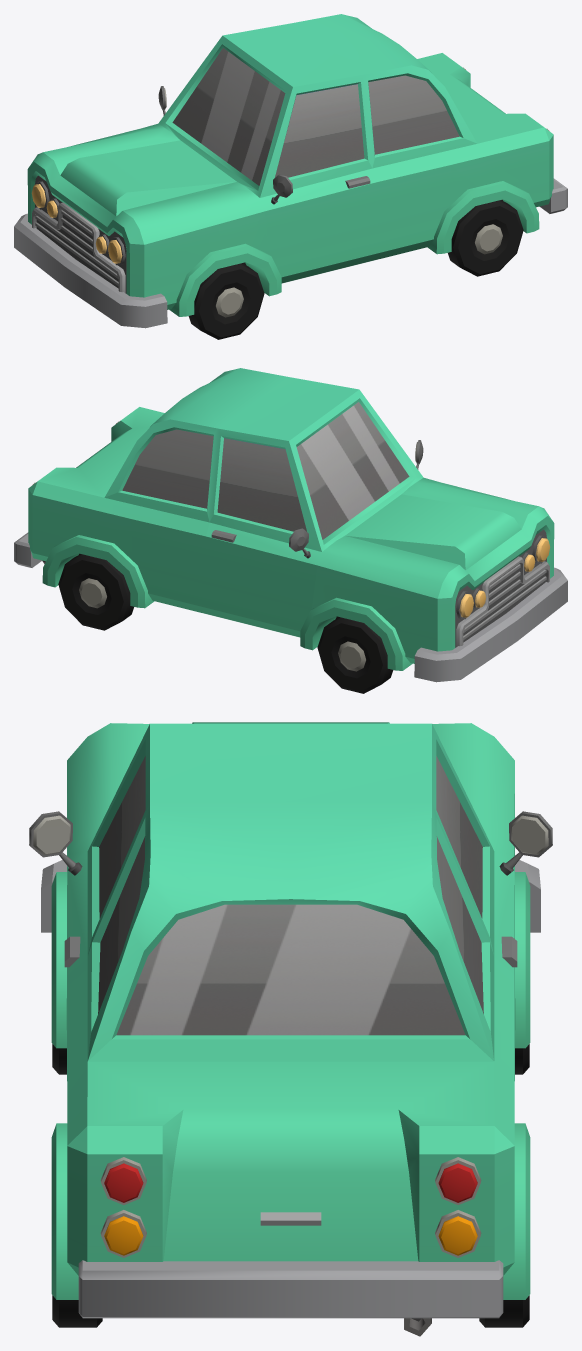
File: Car_7_O.gltf
The picture shows the model from 3 angles, top to bottom: view 1: azimuth 30°, elevation 25°; view 2: azimuth 150°, elevation 25°; view 3: azimuth 270°, elevation 25°; orthographic projection. The views are drawn at different scales.
Visible parts, largest first — view 1: Car_7_O, RL, FL; view 2: Car_7_O, RR, FR; view 3: Car_7_O, RL, RR.
Part boxes in pixels (left/top/right/bottom): Car_7_O: left=14, top=14, right=567, bottom=328; RL: left=448, top=200, right=523, bottom=276; FL: left=188, top=263, right=264, bottom=339; Car_7_O: left=14, top=368, right=567, bottom=682; RR: left=58, top=554, right=133, bottom=630; FR: left=317, top=617, right=393, bottom=693; Car_7_O: left=29, top=722, right=552, bottom=1336; RL: left=52, top=1295, right=102, bottom=1327; RR: left=479, top=1295, right=529, bottom=1327.
Bounding box in the file's own units: 3.38 × 1.52 × 1.7.
3 materials, 3 textured.
